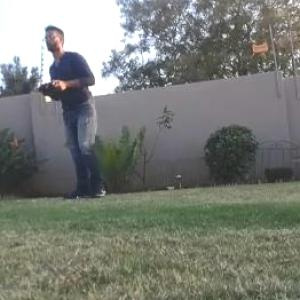follow: (36, 17, 112, 206)
